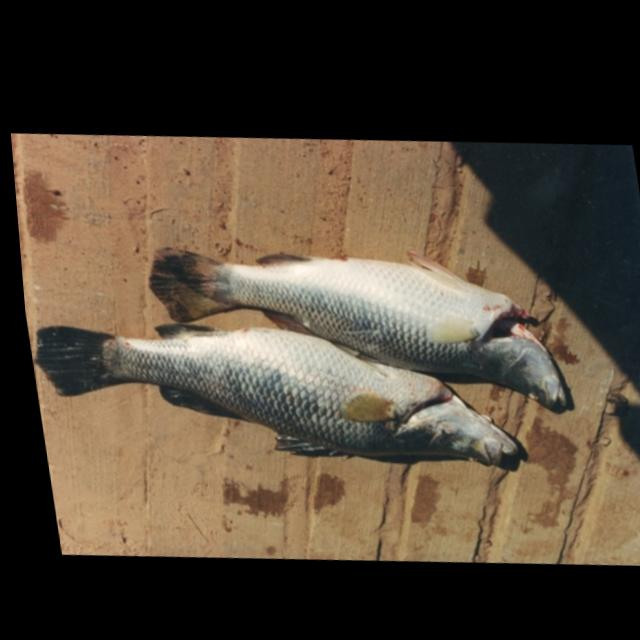Seabass: (24, 285, 523, 501), (140, 219, 570, 439)
